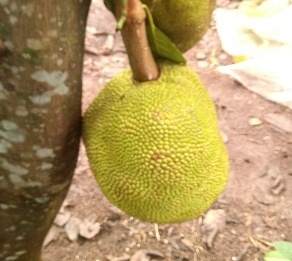Mit: (83, 61, 228, 223)
